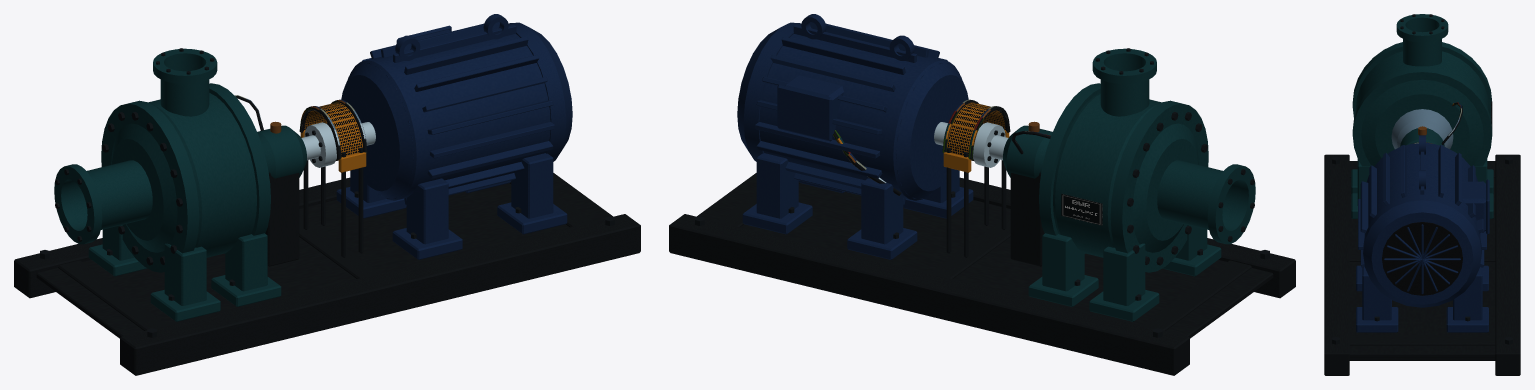
File: assembled.obj
3 views of the same model, side by side, from view 1: azimuth 30°, elevation 25°; view 2: azimuth 150°, elevation 25°; view 3: azimuth 270°, elevation 25° (orthographic). The views are drawn at different scales.
Parts seen in each view (by area): view 1: rhr_pump; view 2: rhr_pump; view 3: rhr_pump.
Boxes of the visible parts, <box> form: rhr_pump: <box>14,14,640,375</box>; rhr_pump: <box>669,14,1295,375</box>; rhr_pump: <box>1324,14,1520,375</box>.
Size of the model in its own units: 5.54 by 2.55 by 2.3.
